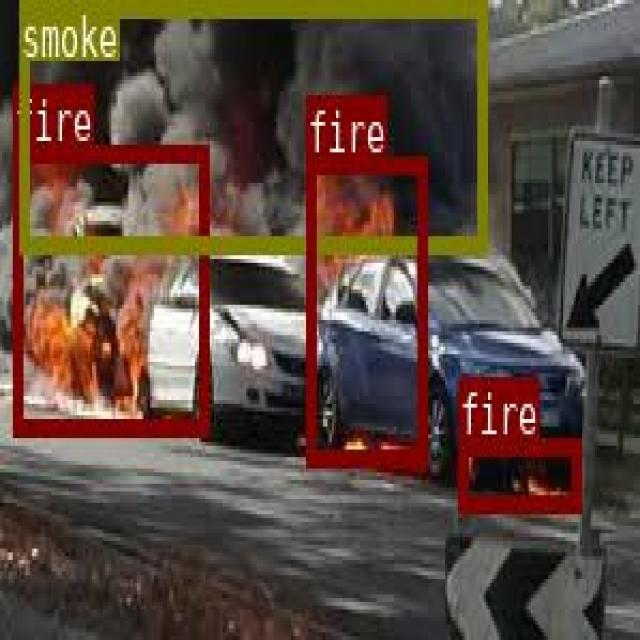fire: (11, 143, 207, 432), (304, 154, 425, 464), (458, 438, 579, 509)
smoke: (17, 0, 484, 248)
